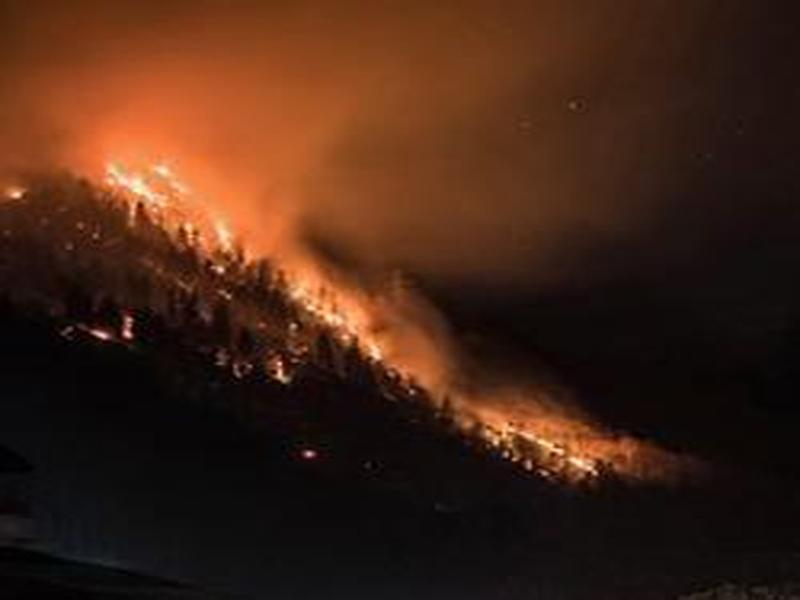FIRE: (55, 124, 648, 492)
